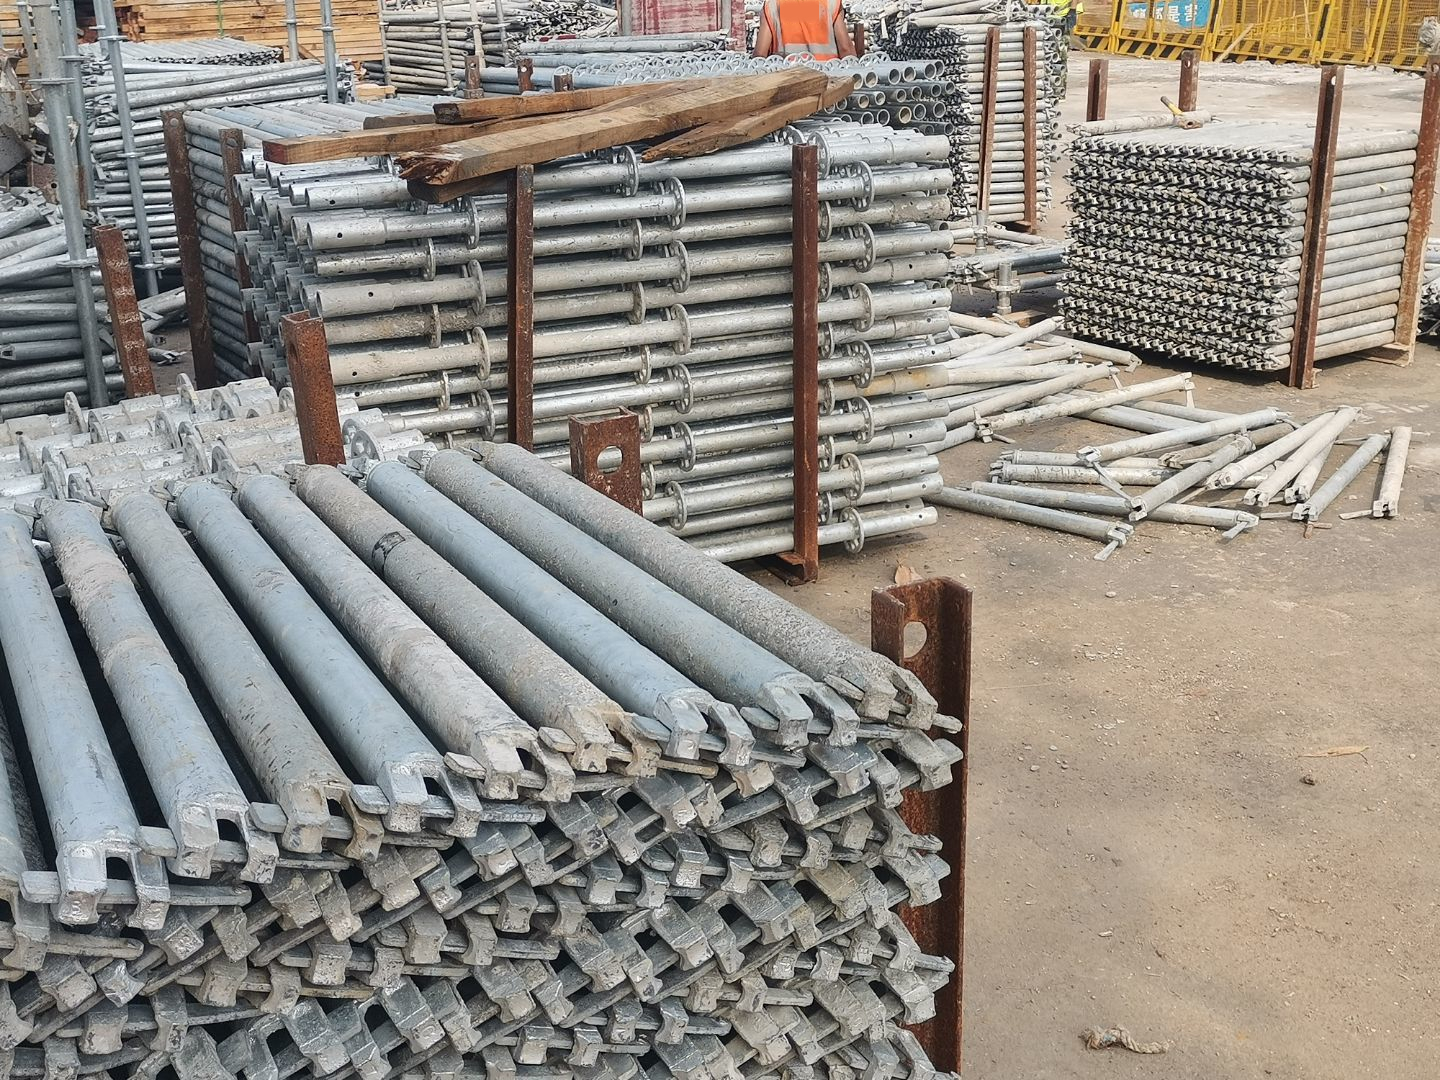scaffold: (22, 448, 955, 1080), (185, 101, 952, 560), (1056, 116, 1417, 380), (901, 15, 1070, 216), (5, 187, 126, 407), (401, 2, 605, 75)
wood: (100, 1, 401, 67)
